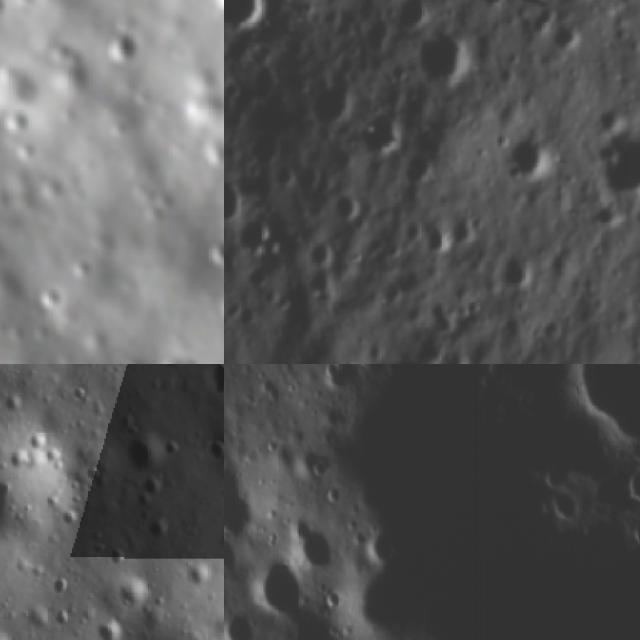crater: (0, 441, 65, 557), (564, 364, 640, 442), (584, 126, 640, 207), (414, 24, 474, 81), (245, 562, 309, 612), (497, 131, 555, 183), (354, 106, 412, 156), (120, 430, 173, 483), (312, 79, 360, 131), (224, 464, 258, 535), (111, 570, 156, 615), (446, 206, 489, 252), (498, 248, 540, 294), (101, 24, 148, 64), (292, 522, 336, 564), (224, 0, 272, 32), (392, 0, 435, 35), (398, 153, 436, 190), (550, 20, 588, 57), (420, 223, 457, 260), (300, 444, 334, 484), (24, 603, 57, 636), (304, 235, 338, 267), (546, 497, 588, 522), (329, 190, 358, 223), (224, 613, 258, 640), (186, 558, 214, 590), (89, 618, 126, 640), (147, 516, 174, 546), (42, 574, 74, 599), (104, 548, 134, 574), (621, 463, 640, 504), (536, 465, 573, 486), (320, 364, 349, 390), (206, 364, 224, 403), (204, 437, 224, 468), (85, 465, 108, 491), (553, 0, 609, 10), (224, 535, 236, 569), (163, 364, 191, 378), (403, 633, 429, 640)
